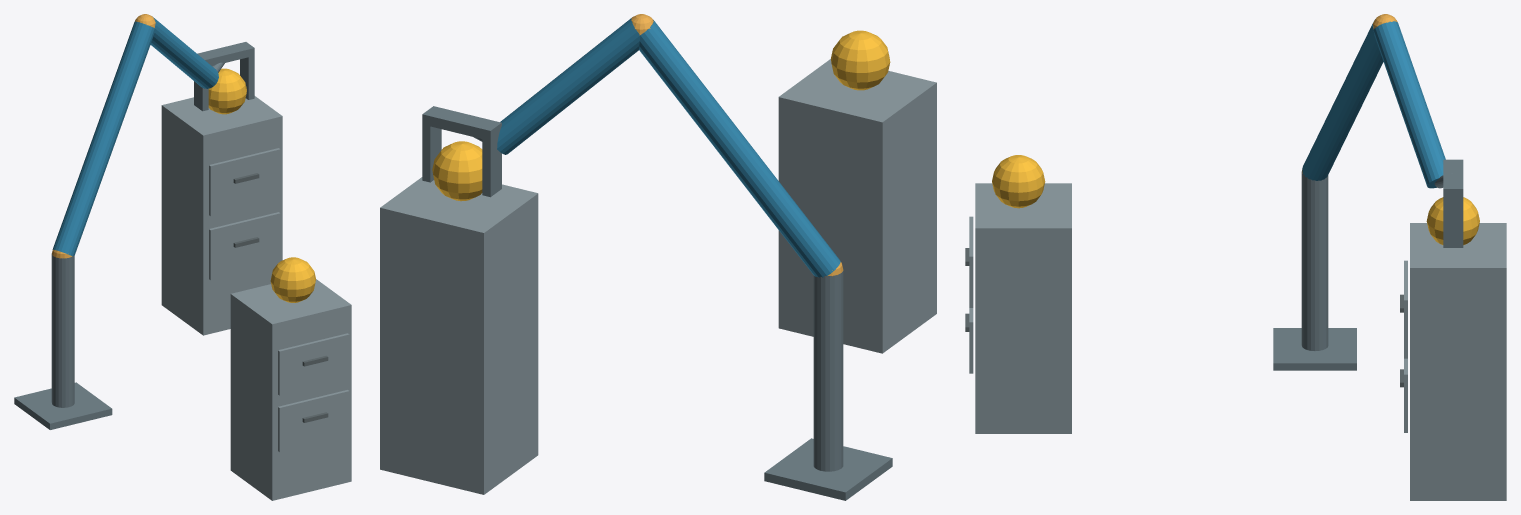
The picture shows the model from 3 angles, left to right: view 1: azimuth 30°, elevation 25°; view 2: azimuth 150°, elevation 25°; view 3: azimuth 270°, elevation 25°; orthographic projection. The views are drawn at different scales.
Visible parts, largest first — view 1: cabinet_1 body, cabinet_2 body, moving link 1, cabinet_2 drawer front.001, cabinet_2 drawer front, fixed post, cabinet_1 drawer front, cabinet_1 drawer front.001, pedestal, moving link 2, released ball_1, ball ball_2 (+2 smaller); view 2: cabinet_2 body, cabinet_1 body, moving link 1, fixed post, moving link 2, pedestal, released ball_1, ball ball_2, gripper bridge, gripper finger -1, gripper finger 1; view 3: cabinet_2 body, cabinet_1 body, fixed post, moving link 2, moving link 1, pedestal, released ball_1, ball ball_2, gripper finger 1, gripper bridge.
Part boxes in pixels (x1,y1,x2,y2): cabinet_1 body: (230,279,351,500); cabinet_2 body: (161,96,282,335); moving link 1: (52,21,154,256); cabinet_2 drawer front.001: (209,148,280,216); cabinet_2 drawer front: (209,212,280,280); fixed post: (51,253,74,407); cabinet_1 drawer front: (278,390,349,452); cabinet_1 drawer front.001: (278,333,349,395); pedestal: (14,382,112,429); moving link 2: (150,16,218,88); released ball_1: (270,257,315,302); ball ball_2: (208,68,246,114); cabinet_2 body: (380,177,538,494); cabinet_1 body: (778,59,936,353); moving link 1: (639,20,840,277); fixed post: (813,271,843,471); moving link 2: (497,18,640,154); pedestal: (764,438,892,500); released ball_1: (831,30,890,90); ball ball_2: (432,141,482,201); gripper bridge: (422,106,501,140); gripper finger -1: (482,135,501,197); gripper finger 1: (422,124,441,182); cabinet_2 body: (1410,223,1506,500); cabinet_1 body: (975,183,1071,433); fixed post: (1301,172,1328,350); moving link 2: (1373,21,1445,188); moving link 1: (1302,22,1383,180); pedestal: (1273,328,1356,370); released ball_1: (992,155,1045,208); ball ball_2: (1426,197,1479,245); gripper finger 1: (1443,198,1463,247); gripper bridge: (1443,159,1463,198).
Bounding box in the file's own units: 1.17 × 1.33 × 1.62.
